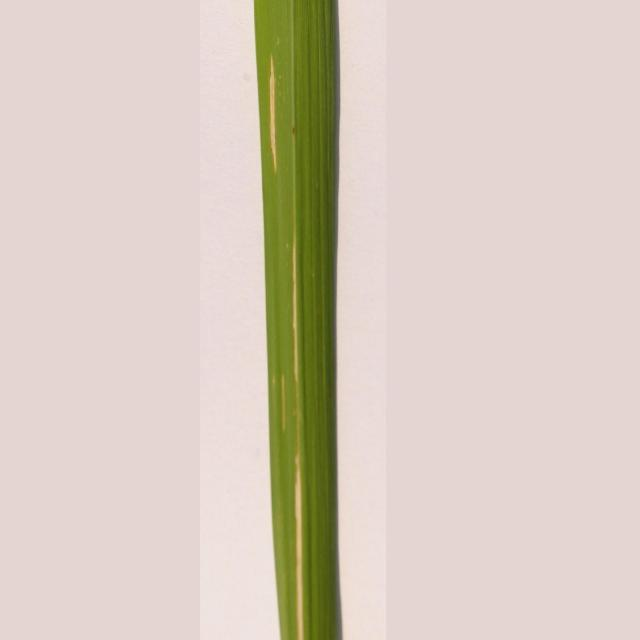leaf blight: (280, 453, 335, 637), (273, 229, 307, 383), (265, 48, 300, 176)
